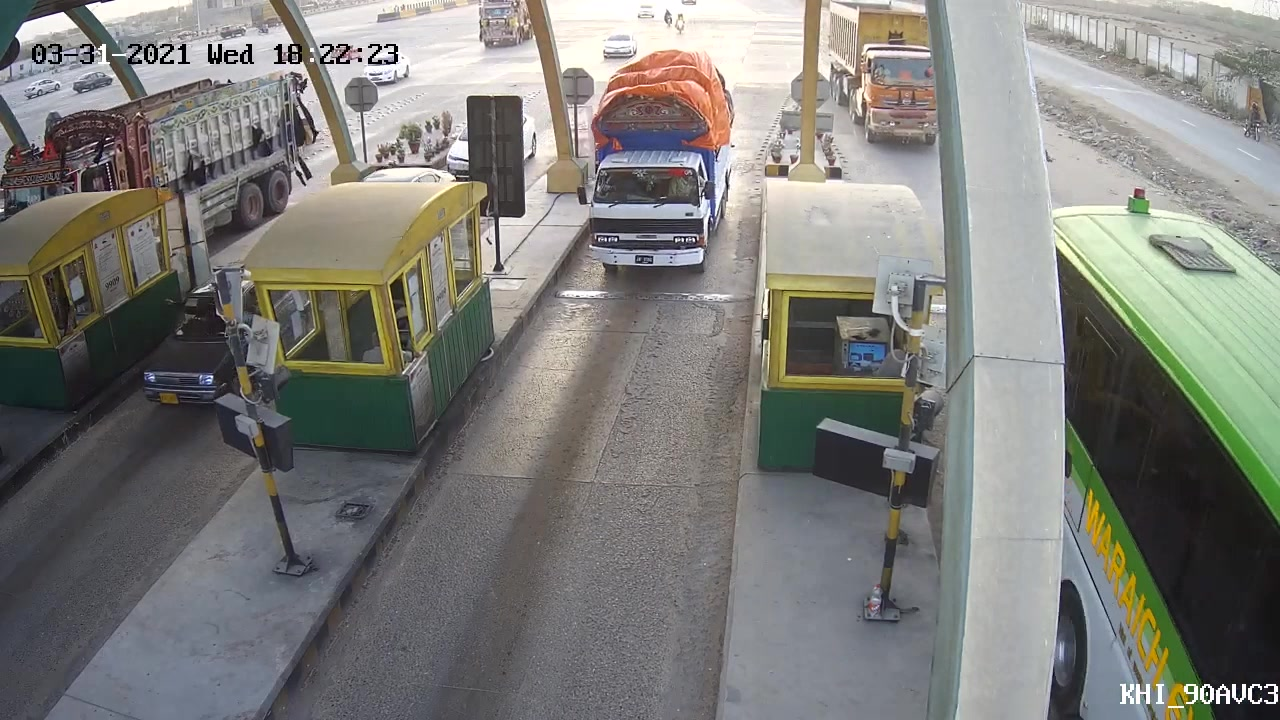F5: (578, 51, 742, 278)
